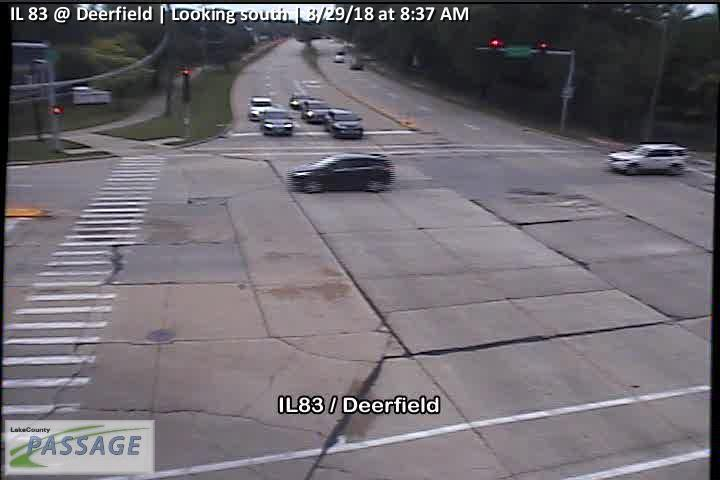SUV: (289, 152, 394, 192), (607, 141, 687, 177)
Sedan: (323, 108, 367, 140), (259, 109, 294, 135), (300, 99, 333, 123), (246, 96, 275, 120), (289, 94, 314, 109)
